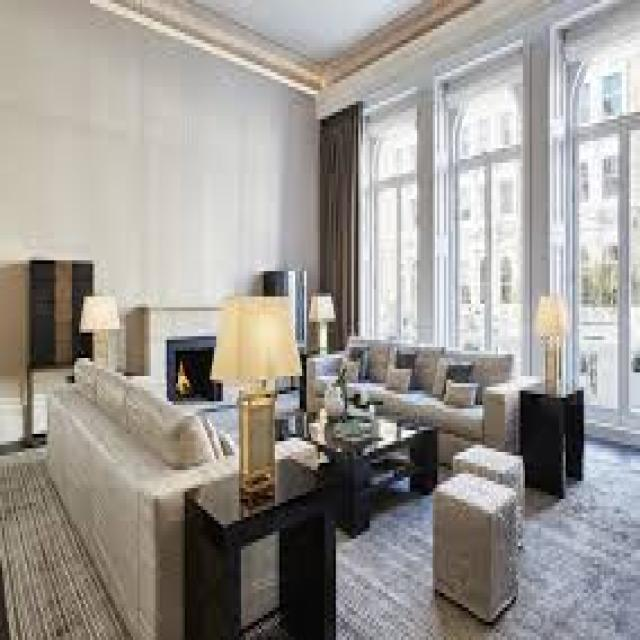Lamp: (216, 297, 295, 482), (538, 297, 570, 386), (80, 297, 117, 367), (312, 290, 334, 349)
Sofa: (46, 371, 244, 632), (308, 344, 520, 406)
Table: (290, 403, 436, 536), (439, 446, 525, 612)
